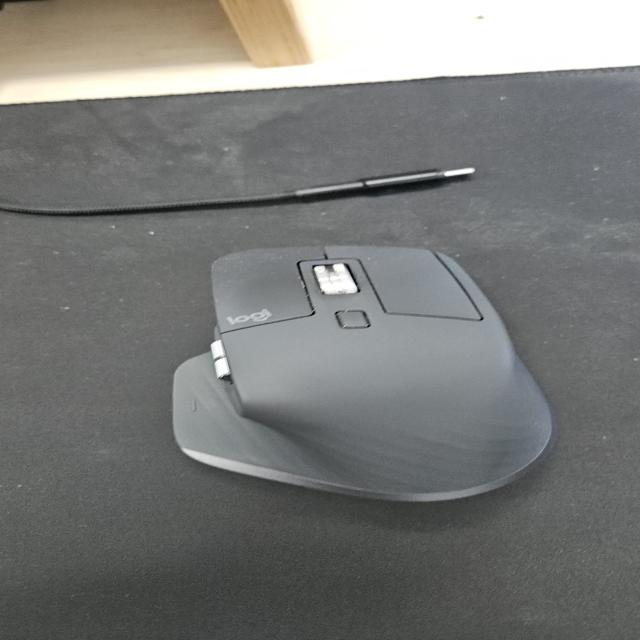Mouse: (168, 242, 558, 503)
